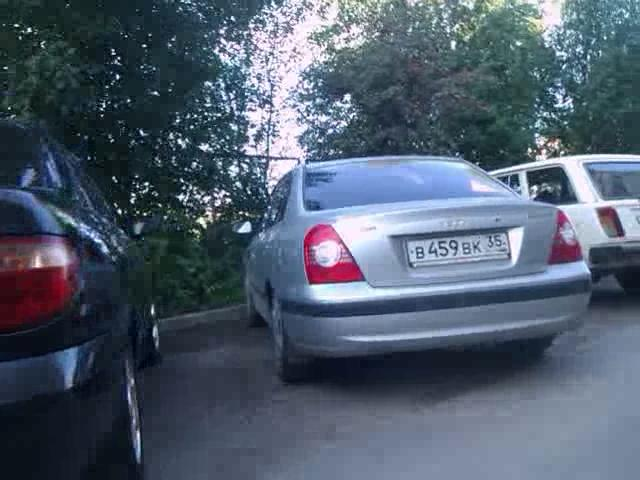car license plate: (407, 228, 510, 271)
